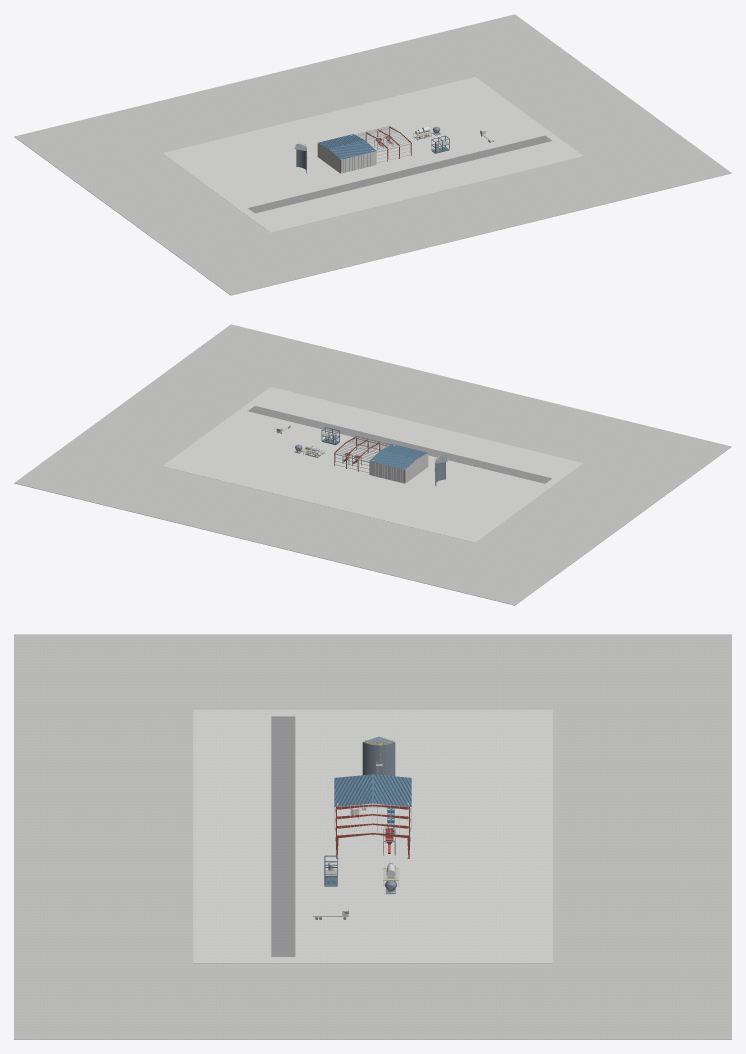
File: plant-mfg.glb
3 views of the same model, one above another, from view 1: azimuth 30°, elevation 25°; view 2: azimuth 150°, elevation 25°; view 3: azimuth 270°, elevation 25° (orthographic). The views are drawn at different scales.
Parts seen in each view (by area): view 1: ENV_Grass, ENV_Ground, ENV_Road, WallCladding, RoofSheeting, RoofPurlins; view 2: ENV_Grass, ENV_Ground, ENV_Road, WallCladding, RoofSheeting, RoofPurlins; view 3: ENV_Grass, ENV_Ground, ENV_Road, RoofSheeting, TankShell(context), TaperedMainFrames.
Boxes of the visible parts, x1=… form: ENV_Grass: x1=14, y1=14, x2=731, y2=295; ENV_Ground: x1=162, y1=77, x2=583, y2=232; ENV_Road: x1=248, y1=135, x2=551, y2=213; WallCladding: x1=317, y1=143, x2=376, y2=173; RoofSheeting: x1=318, y1=134, x2=376, y2=159; RoofPurlins: x1=354, y1=126, x2=410, y2=150; ENV_Grass: x1=14, y1=324, x2=731, y2=605; ENV_Ground: x1=162, y1=387, x2=583, y2=542; ENV_Road: x1=248, y1=406, x2=551, y2=483; WallCladding: x1=369, y1=453, x2=428, y2=483; RoofSheeting: x1=369, y1=444, x2=427, y2=469; RoofPurlins: x1=335, y1=436, x2=391, y2=460; ENV_Grass: x1=14, y1=634, x2=731, y2=1039; ENV_Ground: x1=193, y1=710, x2=552, y2=963; ENV_Road: x1=271, y1=716, x2=295, y2=956; RoofSheeting: x1=334, y1=774, x2=411, y2=806; TankShell(context): x1=362, y1=736, x2=395, y2=776; TaperedMainFrames: x1=335, y1=804, x2=410, y2=858.
Size of the model in its own units: 320 by 15.42 by 240.
57 materials, 56 textured.
